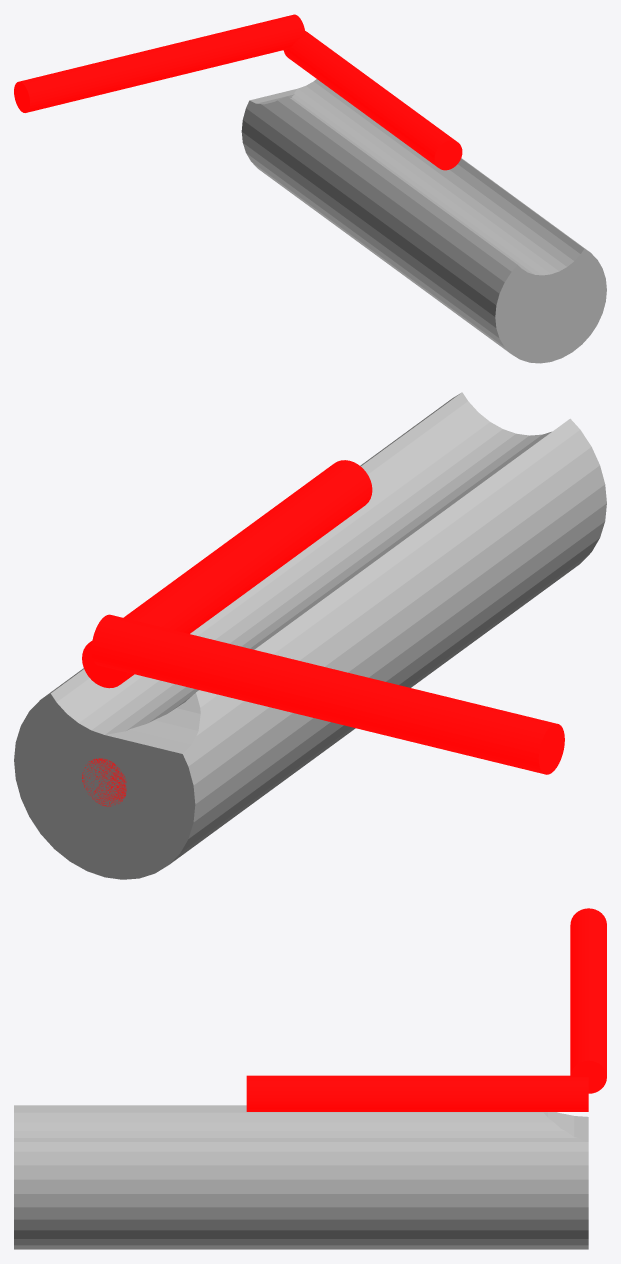
File: LOT129_270e3b18.glb
3 views of the same model, one above another, from view 1: azimuth 30°, elevation 25°; view 2: azimuth 150°, elevation 25°; view 3: azimuth 270°, elevation 25° (orthographic). The views are drawn at different scales.
Visible parts, largest first — view 1: 1200x1.219r_Obj, Cylinder.003, Cylinder.005; view 2: 1200x1.219r_Obj, Cylinder.003, Cylinder.005, Cylinder.001; view 3: 1200x1.219r_Obj, Cylinder.005, Cylinder.003.
Part boxes in pixels (x1,y1,x2,y2): 1200x1.219r_Obj: (241,79,606,363); Cylinder.003: (14,14,305,112); Cylinder.005: (283,31,462,170); 1200x1.219r_Obj: (14,392,606,879); Cylinder.003: (91,614,564,774); Cylinder.005: (82,460,372,688); Cylinder.001: (82,758,126,806); 1200x1.219r_Obj: (14,1105,588,1249); Cylinder.005: (246,1075,588,1111); Cylinder.003: (570,908,606,1093).
Bounding box in the file's own units: 1.19 × 0.55 × 1.62.
